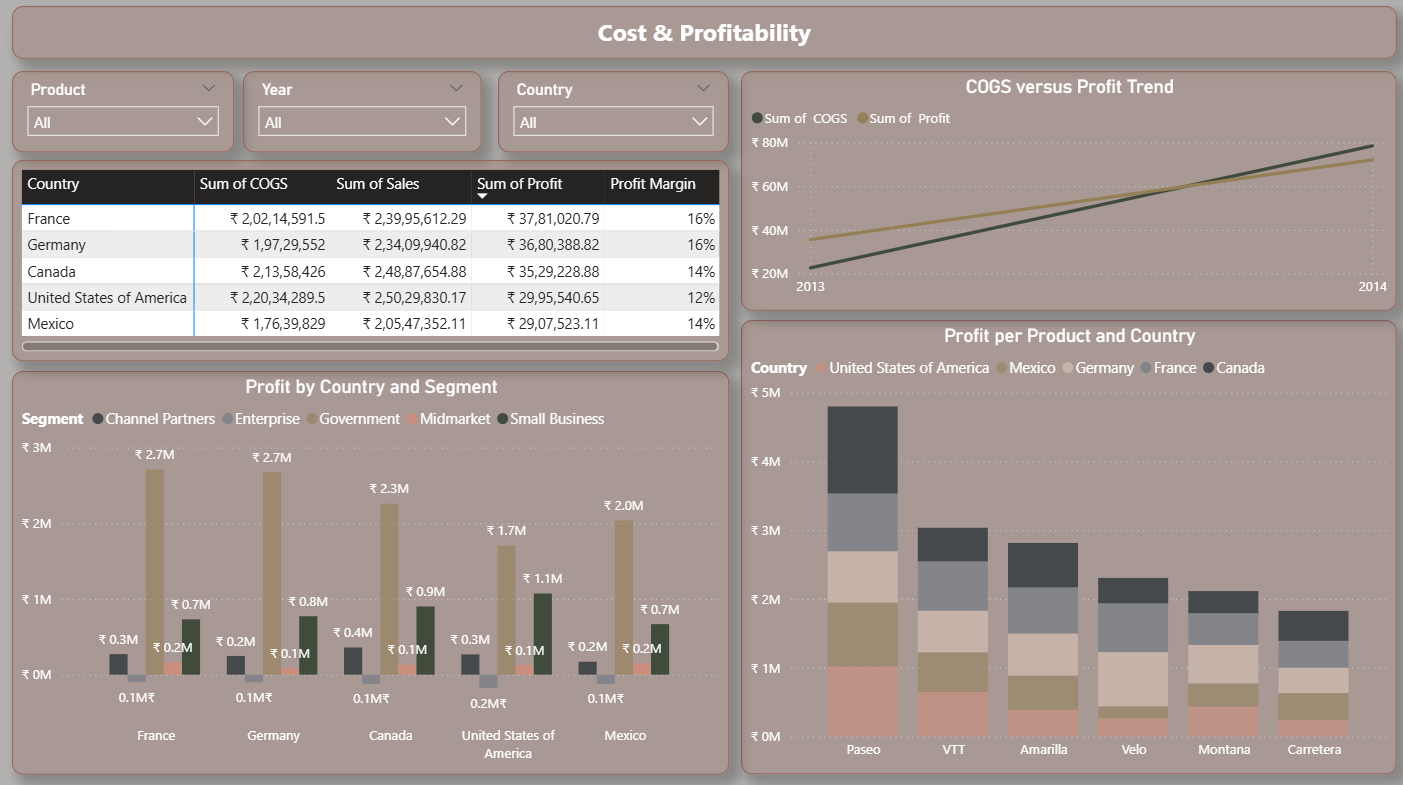

This screenshot's page, from the dashboard's own definition file:
{"tool":"powerbi","page":{"name":"Cost & Profitability","canvas":[1280,720],"ordinal":2},"visuals":[{"type":"textbox","box":[11,8,1259,48],"z":0},{"type":"columnChart","title":"Profit  per Product  and Country","fields":{"Category":["financial_data. Product "],"Y":["Sum(financial_data. Profit )"],"Series":["financial_data.Country"]},"box":[674,294,596,413],"z":1000},{"type":"lineChart","title":"COGS versus  Profit Trend","fields":{"Y":["Sum(financial_data. COGS )"],"Y2":["Sum(financial_data. Profit )"],"Category":["financial_data.Date.Variation.Date Hierarchy.Year","financial_data.Date.Variation.Date Hierarchy.Quarter","financial_data.Date.Variation.Date Hierarchy.Month","financial_data.Date.Variation.Date Hierarchy.Day"]},"box":[674,67,596,218],"z":2000},{"type":"clusteredColumnChart","title":" Profit  by Country and Segment","fields":{"Category":["financial_data.Country"],"Series":["financial_data.Segment"],"Y":["Sum(financial_data. Profit )"]},"box":[11,340,652,367],"z":3000},{"type":"slicer","fields":{"Values":["financial_data. Product "]},"box":[11,67,202,74],"z":4000},{"type":"slicer","fields":{"Values":["financial_data.Country"]},"box":[453,67,210,74],"z":5000},{"type":"slicer","fields":{"Values":["financial_data.Date.Variation.Date Hierarchy.Year"]},"box":[221,67,217,74],"z":6000},{"type":"pivotTable","fields":{"Values":["Sum(financial_data. COGS )","Sum(financial_data.  Sales )","Sum(financial_data. Profit )","Measure.Profit Margin"],"Rows":["financial_data.Country"]},"box":[11,148,652,183],"z":7000}]}

Visuals, with their boxes in screenshot pixels (x1, y1, x2, y2), scaled from the page's 1280x720 canvas onto the 1403x785 screenshot:
textbox: l=12, t=9, r=1392, b=61
"Profit  per Product  and Country" columnChart: l=739, t=321, r=1392, b=771
"COGS versus  Profit Trend" lineChart: l=739, t=73, r=1392, b=311
" Profit  by Country and Segment" clusteredColumnChart: l=12, t=371, r=727, b=771
slicer - financial_data. Product : l=12, t=73, r=233, b=154
slicer - financial_data.Country: l=497, t=73, r=727, b=154
slicer - financial_data.Date.Variation.Date Hierarchy.Year: l=242, t=73, r=480, b=154
pivotTable - Sum(financial_data. COGS ) x Sum(financial_data.  Sales ): l=12, t=161, r=727, b=361
